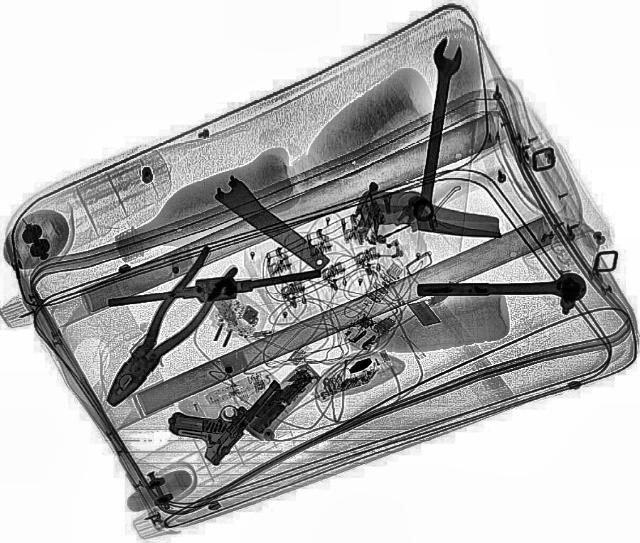Gun: (154, 353, 288, 465)
Pliers: (88, 242, 248, 416)
Wrench: (409, 36, 463, 222)
